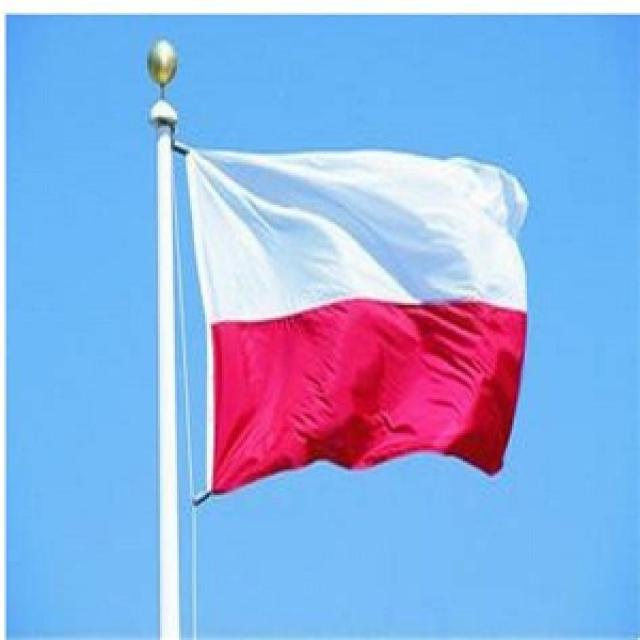poland: (94, 107, 586, 571)
